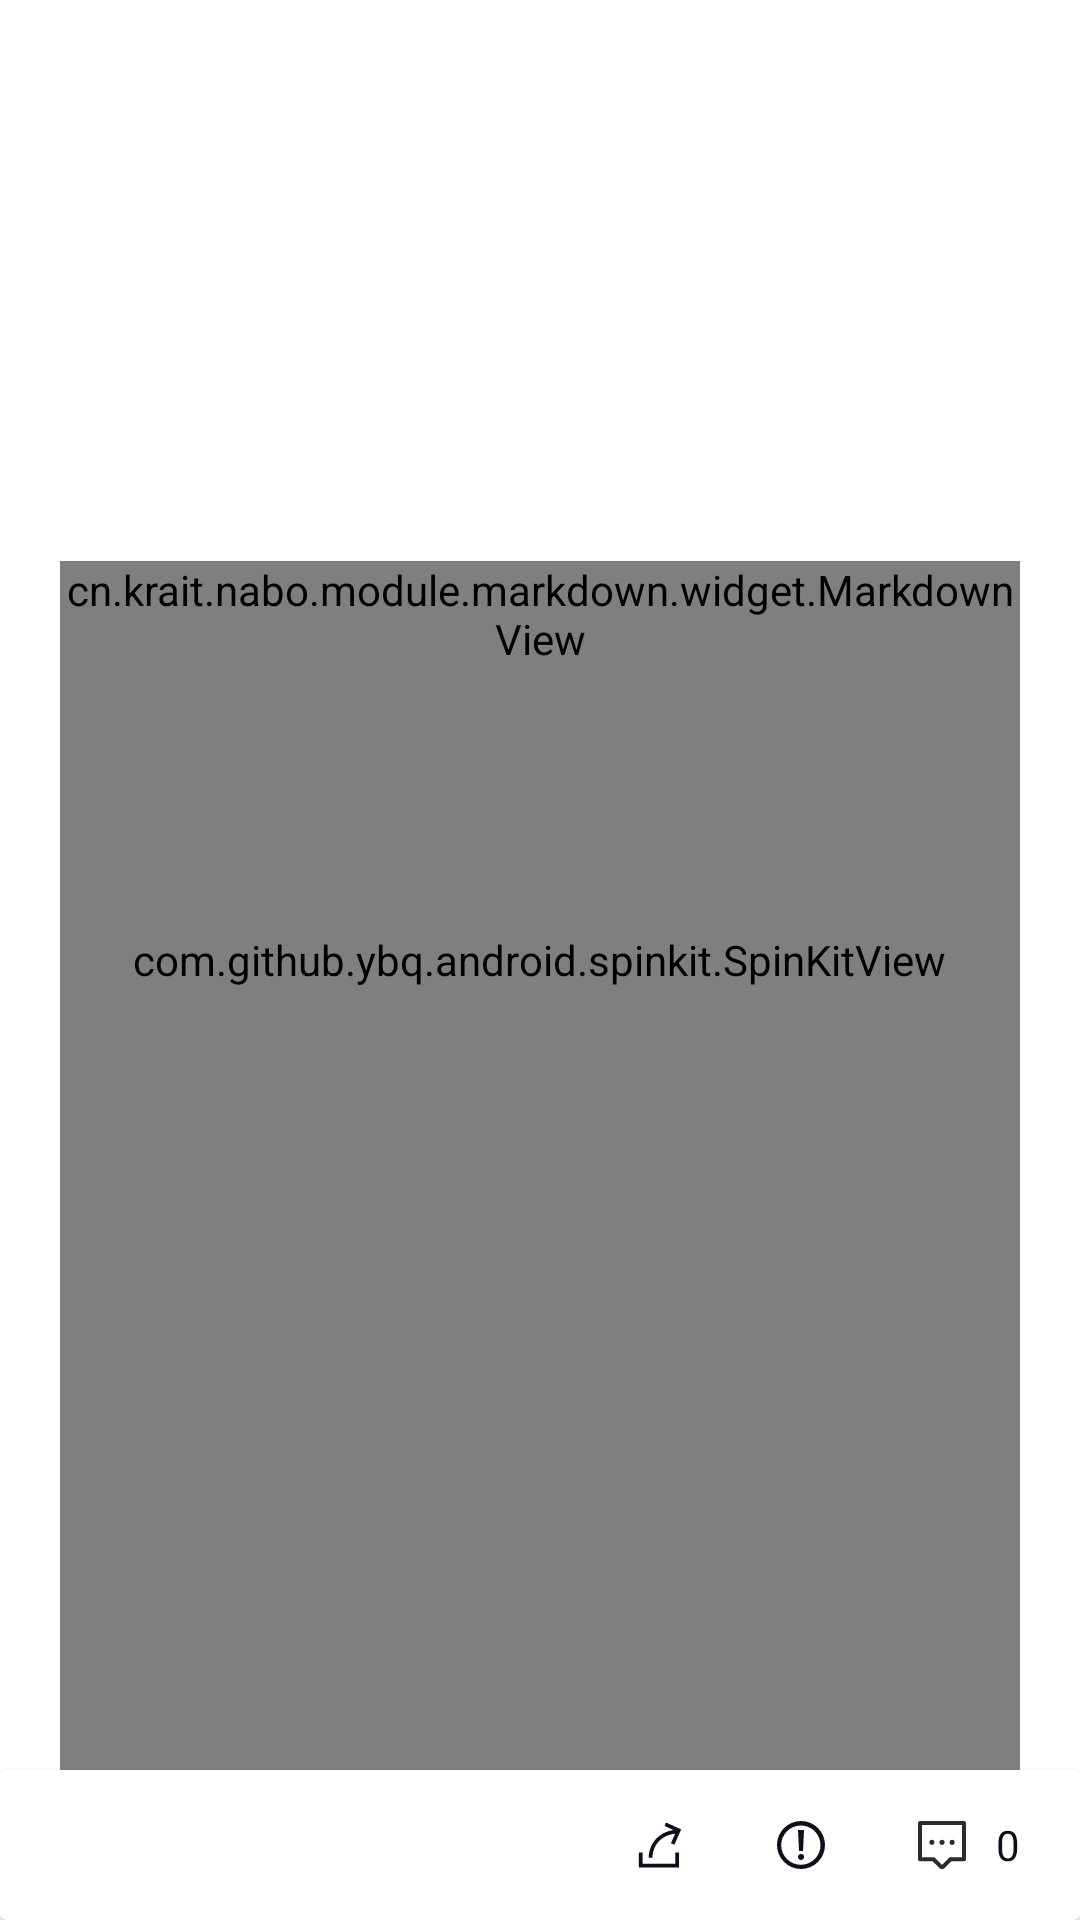

Icons on this 1080*1920 Android screen, each with the point to tap as (x=x, y=y):
bbn comment: (x=942, y=1845)
bbn share: (x=659, y=1845)
info: (x=801, y=1845)
